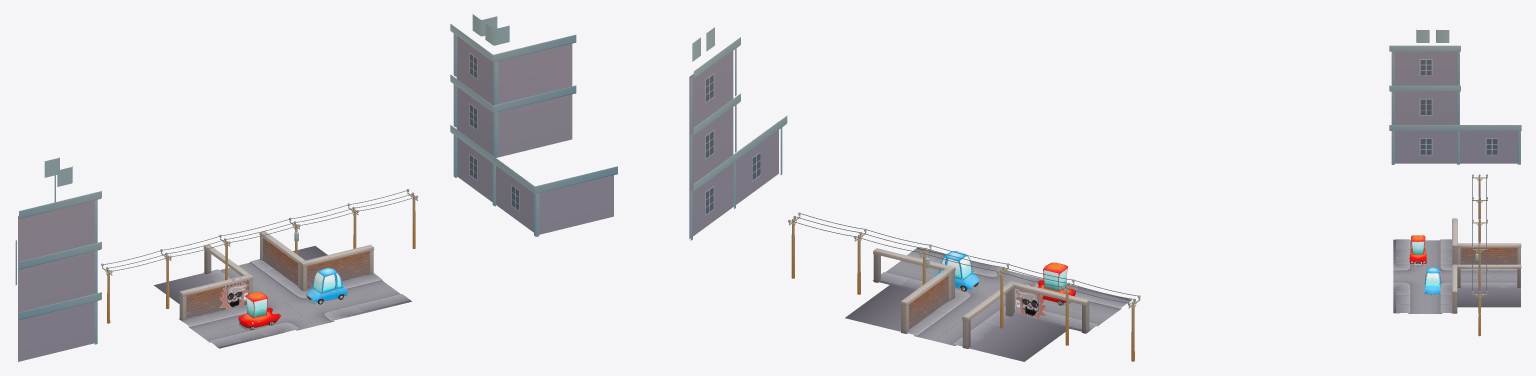
Rendered from UrbanRoadIntersection.prefab.glb.
3 views of the same model, side by side, from view 1: azimuth 30°, elevation 25°; view 2: azimuth 150°, elevation 25°; view 3: azimuth 270°, elevation 25° (orthographic). The views are drawn at different scales.
Visible parts, largest first — view 1: FarBackBuilding02, UrbanRoadIntersection, Road01, BrickWall (2), BrickWall (3), BrickWall, Car1Body, Car2Body, Graffiti08, BrickWall (1); view 2: FarBackBuilding02, Road01, UrbanRoadIntersection, BrickWall, BrickWall (1), Car1Body, Car2Body, BrickWall (2), BrickWall (3), Graffiti08; view 3: FarBackBuilding02, UrbanRoadIntersection, Road01, BrickWall (1), Car2Body, BrickWall, Car1Body, BrickWall (2), BrickWall (3), TelegraphPole02 (4), TelegraphPole01, TelegraphPole02 (3) (+1 smaller).
Part boxes in pixels (x1,y1,x2,y2): FarBackBuilding02: [15, 14, 617, 361]; UrbanRoadIntersection: [179, 273, 411, 348]; Road01: [154, 246, 327, 303]; BrickWall (2): [299, 244, 374, 290]; BrickWall (3): [179, 274, 253, 320]; BrickWall: [259, 231, 304, 288]; Car1Body: [305, 267, 347, 303]; Car2Body: [238, 292, 280, 329]; Graffiti08: [219, 277, 248, 309]; BrickWall (1): [203, 244, 249, 276]; FarBackBuilding02: [689, 27, 787, 240]; Road01: [845, 285, 1069, 361]; UrbanRoadIntersection: [873, 247, 1131, 332]; BrickWall: [900, 268, 951, 333]; BrickWall (1): [962, 283, 1013, 348]; Car1Body: [934, 251, 980, 291]; Car2Body: [1038, 262, 1075, 304]; BrickWall (2): [873, 248, 955, 299]; BrickWall (3): [1008, 281, 1089, 333]; Graffiti08: [1014, 282, 1046, 318]; FarBackBuilding02: [1389, 29, 1521, 164]; UrbanRoadIntersection: [1393, 239, 1456, 313]; Road01: [1457, 269, 1520, 307]; BrickWall (1): [1457, 243, 1521, 264]; Car2Body: [1409, 235, 1426, 266]; BrickWall: [1457, 264, 1521, 287]; Car1Body: [1424, 267, 1441, 295]; BrickWall (2): [1452, 264, 1457, 313]; BrickWall (3): [1452, 218, 1457, 264]; TelegraphPole02 (4): [1472, 291, 1487, 336]; TelegraphPole01: [1472, 246, 1487, 289]; TelegraphPole02 (3): [1472, 174, 1487, 218].
Size of the model in its own units: 76.34 by 26.28 by 18.69.
8 materials, 7 textured.
